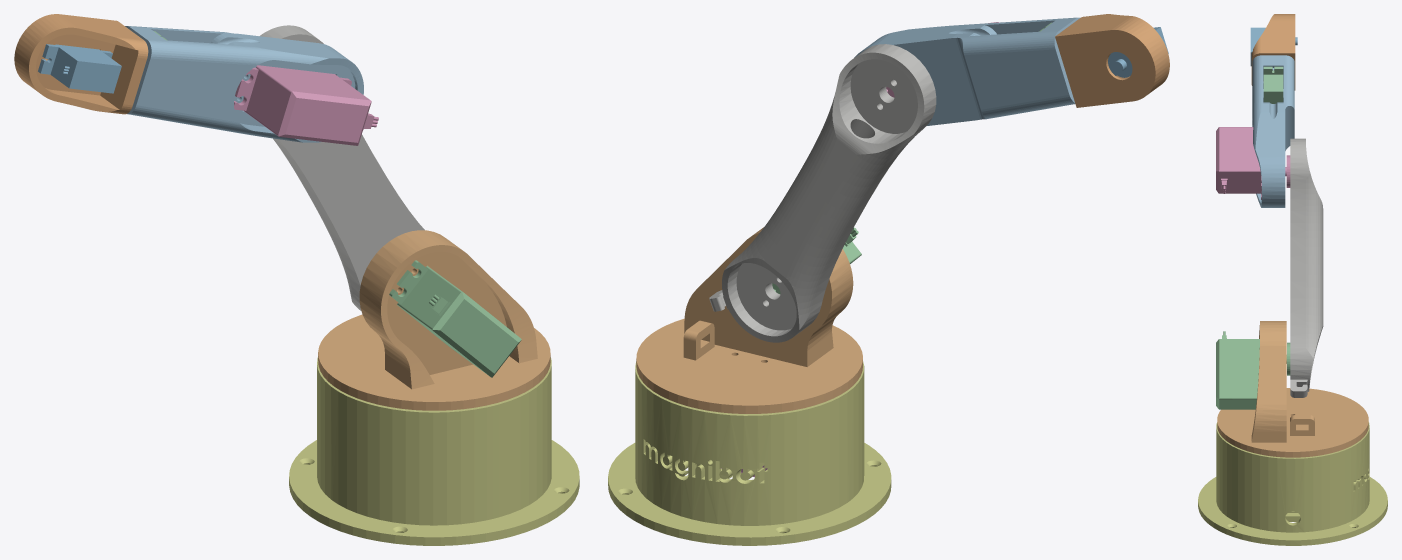
The model's file is case-01_fable52.glb.
3 renders of one model, left to right at view 1: azimuth 30°, elevation 25°; view 2: azimuth 150°, elevation 25°; view 3: azimuth 270°, elevation 25°, orthographic. The views are drawn at different scales.
Visible parts, largest first — view 1: c00001, c00003, c00006, c00005, c00007, c00009, c00004, c00010; view 2: c00001, c00005, c00003, c00006, c00009; view 3: c00001, c00003, c00005, c00006, c00004, c00007, c00009, c00008, c00010.
Part boxes in pixels (x1=…): c00001: x1=289, y1=357, x2=579, y2=545; c00003: x1=318, y1=230, x2=550, y2=410; c00006: x1=125, y1=26, x2=363, y2=142; c00005: x1=259, y1=25, x2=424, y2=310; c00007: x1=234, y1=65, x2=378, y2=145; c00009: x1=14, y1=14, x2=148, y2=114; c00004: x1=389, y1=260, x2=521, y2=377; c00010: x1=38, y1=44, x2=121, y2=93; c00001: x1=608, y1=361, x2=891, y2=545; c00005: x1=709, y1=44, x2=936, y2=342; c00003: x1=636, y1=227, x2=862, y2=413; c00006: x1=854, y1=17, x2=1080, y2=125; c00009: x1=1055, y1=14, x2=1169, y2=107; c00001: x1=1198, y1=422, x2=1387, y2=545; c00003: x1=1217, y1=321, x2=1368, y2=457; c00005: x1=1290, y1=138, x2=1323, y2=397; c00006: x1=1252, y1=55, x2=1294, y2=207; c00004: x1=1216, y1=331, x2=1290, y2=409; c00007: x1=1216, y1=127, x2=1290, y2=199; c00009: x1=1251, y1=14, x2=1295, y2=90; c00008: x1=1263, y1=66, x2=1283, y2=103; c00010: x1=1250, y1=27, x2=1297, y2=66.
Size of the model in its own units: 262 by 259 by 121.
